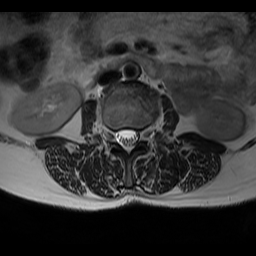CCS_normal: (123, 123, 132, 158)
LFS_normal: (139, 125, 146, 145)
LLS_normal: (131, 124, 138, 150)
RFS_normal: (108, 123, 116, 148)
RLS_normal: (115, 124, 124, 149)
